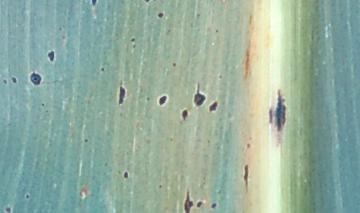tarspot: (266, 86, 288, 135), (192, 80, 206, 110), (181, 186, 195, 213), (115, 78, 128, 105), (28, 71, 42, 88), (242, 162, 249, 192), (45, 49, 57, 65), (207, 99, 219, 114), (156, 94, 168, 107), (180, 107, 190, 122), (193, 198, 204, 209), (122, 169, 131, 181), (155, 10, 165, 19), (9, 75, 17, 85), (210, 201, 218, 211), (3, 205, 12, 213), (81, 136, 90, 144), (144, 95, 152, 103), (245, 141, 251, 151), (90, 1, 98, 8), (128, 36, 136, 43), (216, 72, 223, 80), (194, 11, 202, 18), (39, 101, 46, 108), (1, 78, 9, 84), (157, 182, 163, 190), (23, 193, 30, 199), (213, 28, 219, 34), (131, 43, 136, 50), (171, 61, 176, 67), (99, 67, 105, 72), (142, 1, 151, 4)
